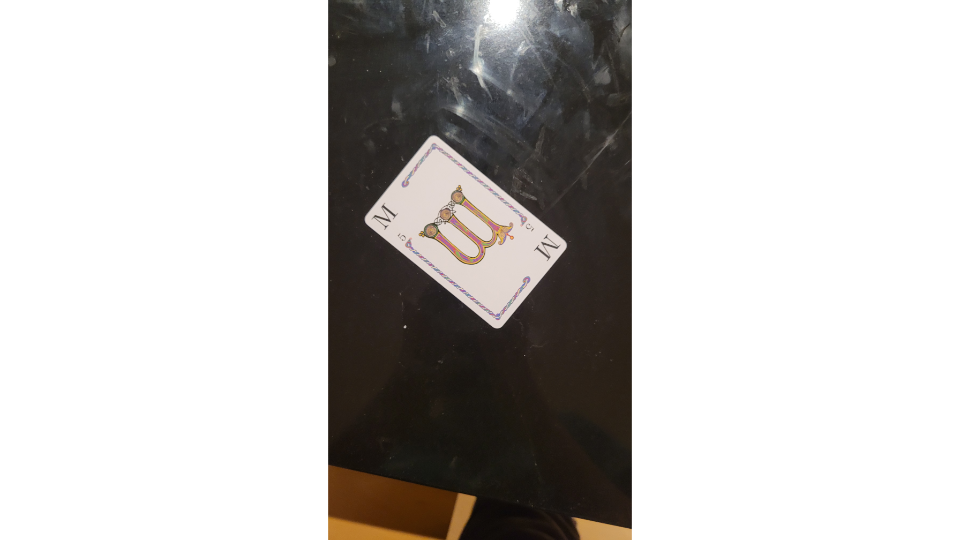M: (361, 131, 570, 330)
